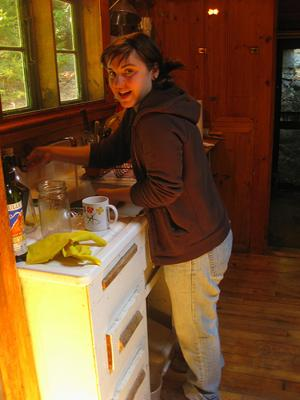person: (26, 29, 235, 400)
